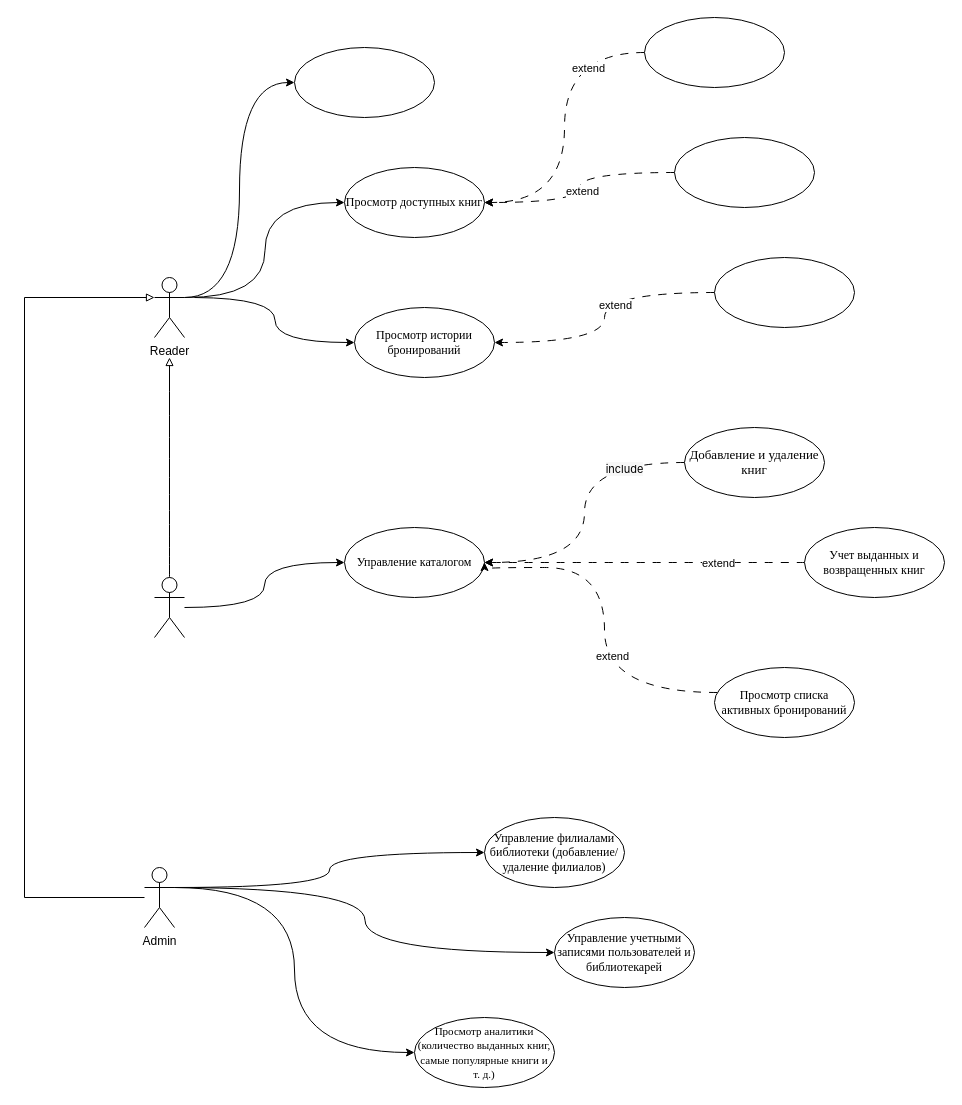
The diagram is 962 pixels wide and 1105 high, and some of its shapes have lost their labels. Here are the shapes that lost their labels. From the top down, the centre of each, then its label:
At point (714, 52): "Бронирование книги".
At point (364, 82): "Регистрация в системе".
At point (744, 172): "Поиск книг по автору, названию, жанру".
At point (784, 292): "Отмена бронирования".
At point (169, 607): "Librarian".
